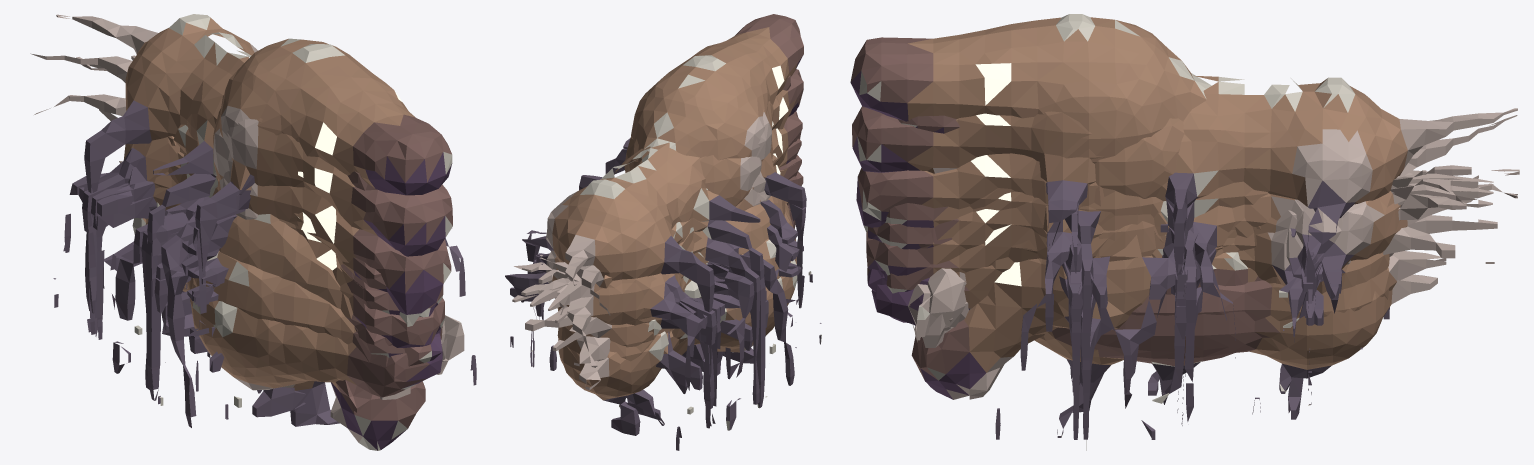
The model's file is charognard.glb.
3 views of the same model, side by side, from view 1: azimuth 30°, elevation 25°; view 2: azimuth 150°, elevation 25°; view 3: azimuth 270°, elevation 25° (orthographic). The views are drawn at different scales.
Visible parts, largest first — view 1: attack_01, attack_00, death_03, walk_01, death_02, death_01, walk_00, attack_02, walk_03, death_00, attack_03, idle_02 (+3 smaller); view 2: attack_00, attack_01, walk_01, death_03, death_00, death_01, death_02, walk_03, walk_00, idle_02, attack_02, attack_03 (+4 smaller); view 3: attack_01, attack_00, attack_02, death_03, walk_01, death_00, death_02, walk_00, walk_03, walk_02, attack_03, idle_02 (+3 smaller).
Boxes of the visible parts, x1,y1,x2,y2 form: attack_01: (56,14,452,328); attack_00: (34,38,452,362); death_03: (132,218,447,426); walk_01: (53,57,476,427); death_02: (119,161,464,417); death_01: (99,109,440,407); walk_00: (30,53,444,348); attack_02: (93,179,425,450); walk_03: (97,137,354,419); death_00: (94,108,376,405); attack_03: (89,223,442,399); idle_02: (84,177,387,400); attack_00: (505,14,805,408); attack_01: (522,69,811,312); walk_01: (527,111,802,450); death_03: (558,219,797,435); death_00: (510,75,797,423); death_01: (535,196,792,414); death_02: (557,204,795,425); walk_03: (510,165,821,430); walk_00: (534,165,803,417); idle_02: (521,138,801,426); attack_02: (533,255,799,406); attack_03: (531,203,802,428); attack_01: (852,75,1517,331); attack_00: (850,14,1517,403); attack_02: (911,170,1426,450); death_03: (871,224,1437,437); walk_01: (856,153,1519,439); death_00: (898,115,1455,372); death_02: (867,251,1494,395); walk_00: (866,115,1517,423); walk_03: (921,165,1471,439); walk_02: (908,179,1450,439); attack_03: (886,185,1474,424); idle_02: (885,188,1466,439).
Bounding box in the file's own units: 0.8368 × 1.23 × 1.88.
